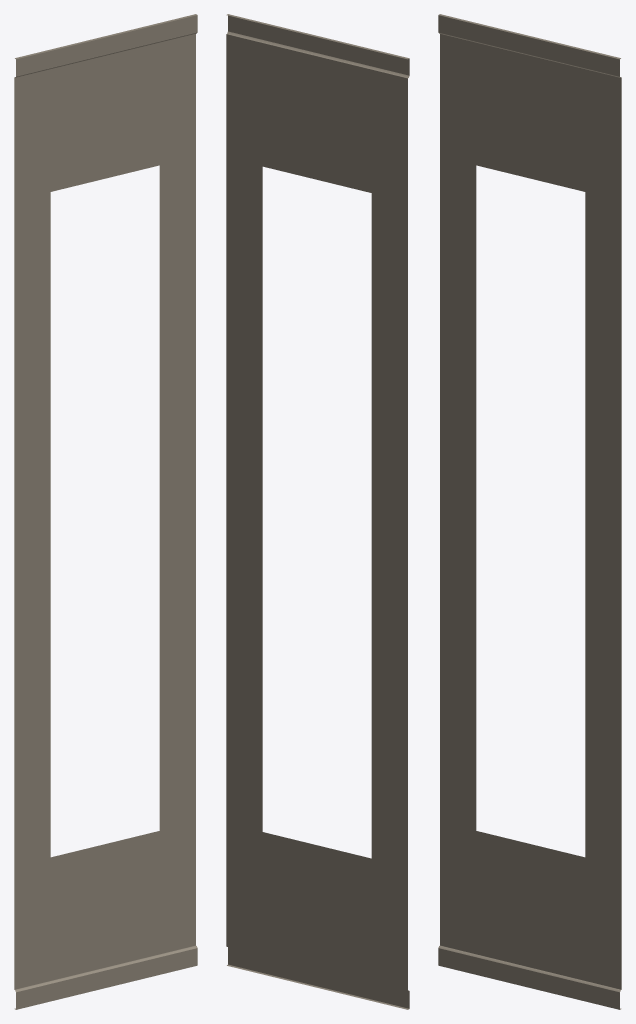
Rendered from Wall_1x5__SingleWindow_NonUniformSize.fbx.
3 renders of one model, left to right at view 1: azimuth 30°, elevation 25°; view 2: azimuth 150°, elevation 25°; view 3: azimuth 330°, elevation 25°, orthographic.
Parts seen in each view (by area): view 1: Wall_1x5__SingleWindow_NonUniformSize; view 2: Wall_1x5__SingleWindow_NonUniformSize; view 3: Wall_1x5__SingleWindow_NonUniformSize.
Part boxes in pixels (left/top/right/bottom): Wall_1x5__SingleWindow_NonUniformSize: left=14, top=14, right=197, bottom=1009; Wall_1x5__SingleWindow_NonUniformSize: left=226, top=14, right=409, bottom=1009; Wall_1x5__SingleWindow_NonUniformSize: left=438, top=14, right=621, bottom=1009.
Bounding box in the file's own units: 1 × 5 × 0.015.
